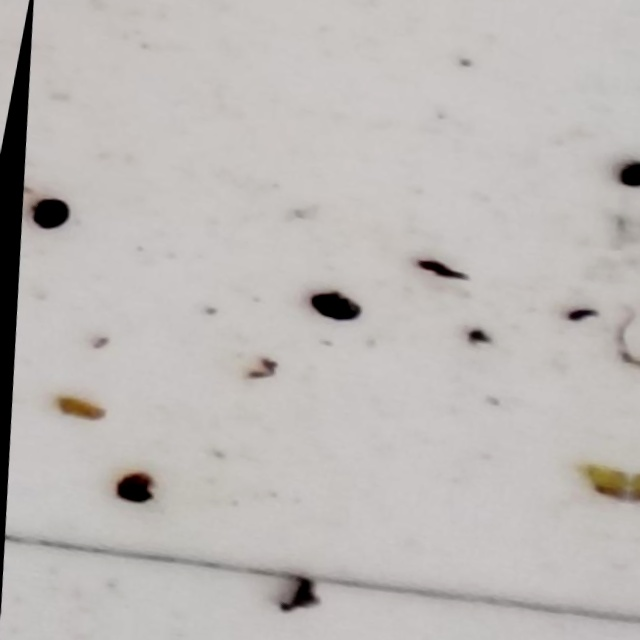varroa: (299, 286, 362, 325), (25, 193, 70, 233)
